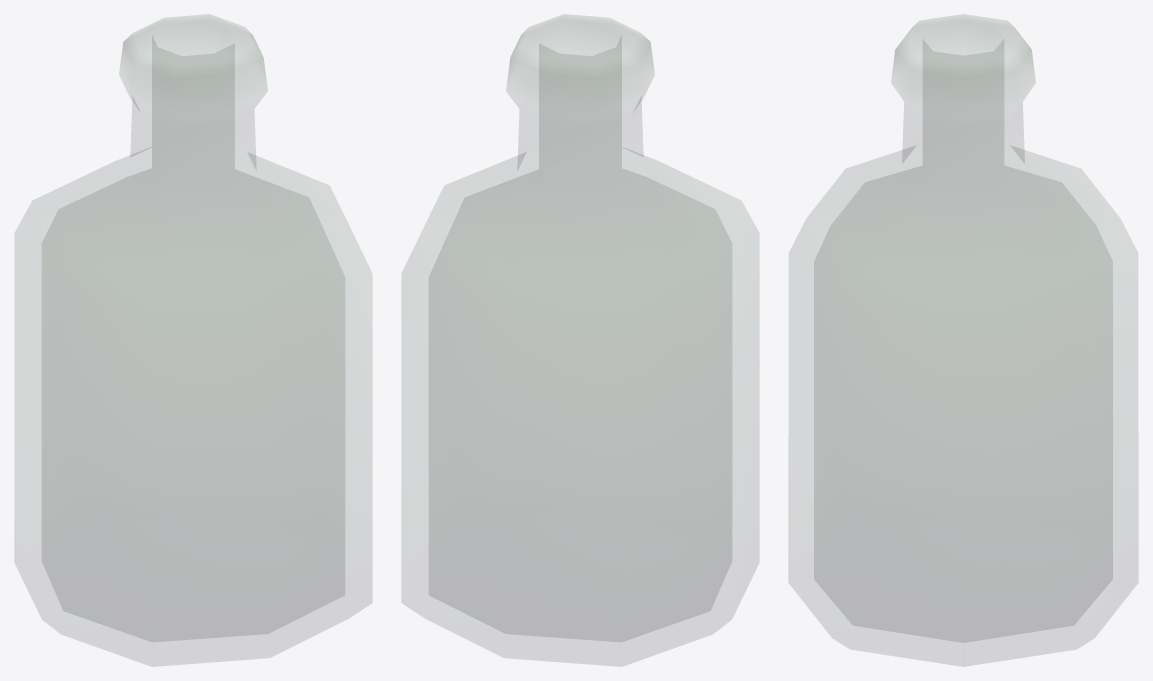
3 renders of one model, left to right at view 1: azimuth 30°, elevation 25°; view 2: azimuth 150°, elevation 25°; view 3: azimuth 270°, elevation 25°, orthographic.
Visible parts, largest first — view 1: transp.005; view 2: transp.005; view 3: transp.005.
Part boxes in pixels (box(x1,y1,x2,y2)): transp.005: box(41, 15, 345, 642); transp.005: box(428, 15, 732, 642); transp.005: box(814, 15, 1112, 666).
Bounding box in the file's own units: 0.2809 × 0.5 × 0.2809.
